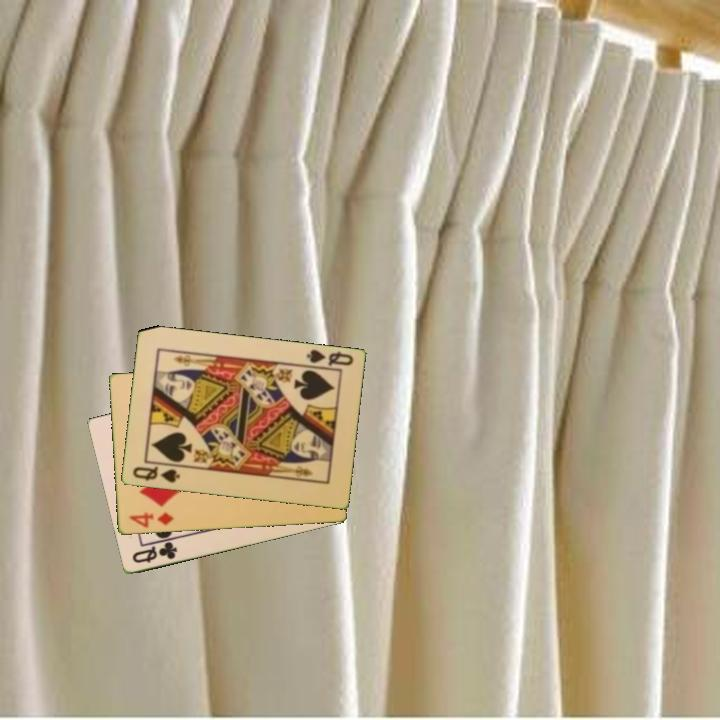4d: (126, 509, 176, 531)
Qc: (128, 538, 180, 566)
Qs: (129, 463, 183, 486), (302, 346, 356, 369)
